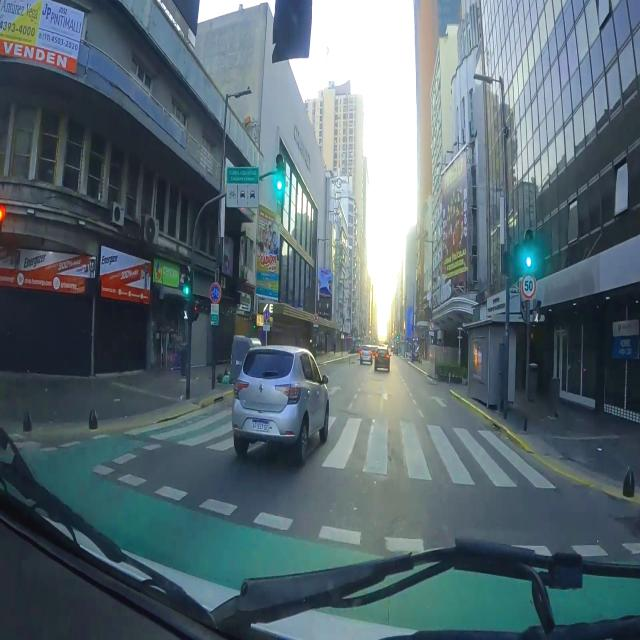car: (232, 346, 329, 465), (374, 347, 390, 372), (360, 345, 374, 365)
